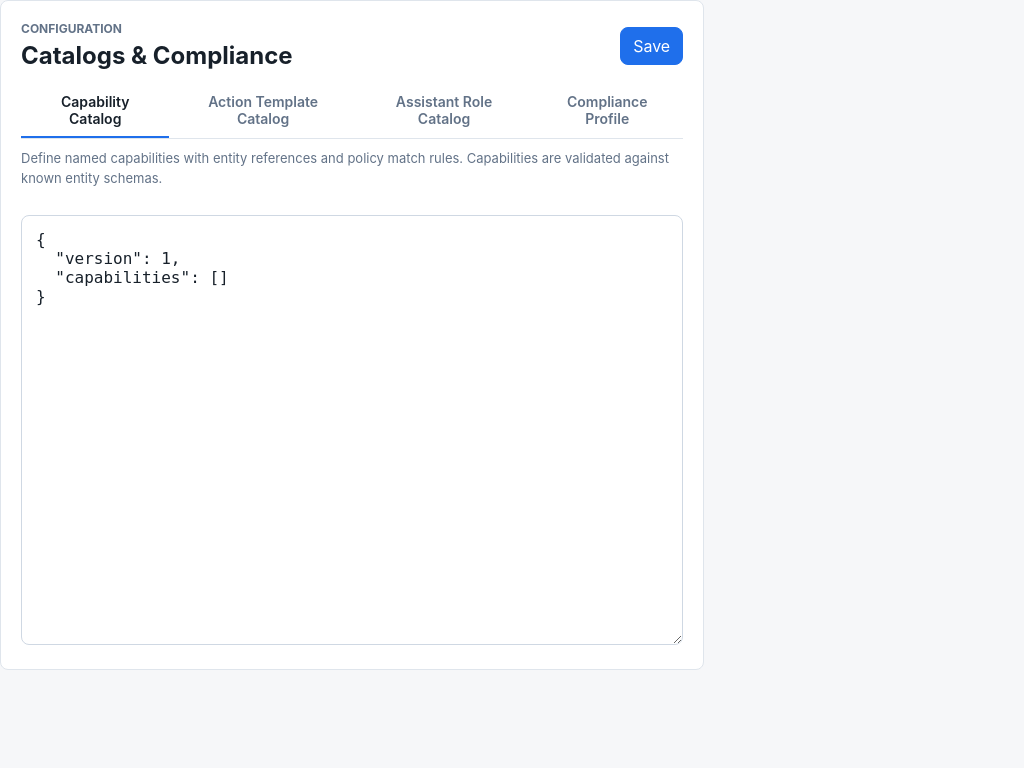
Scenario: CatalogsWorkspace › shows the empty assistant role catalog returned by the server
Expected: the text box named "Capability Catalog JSON" is shown, [21,215,683,645]
Click the button "Assistant Role Catalog" at (444, 111), box [357,84,531,138]
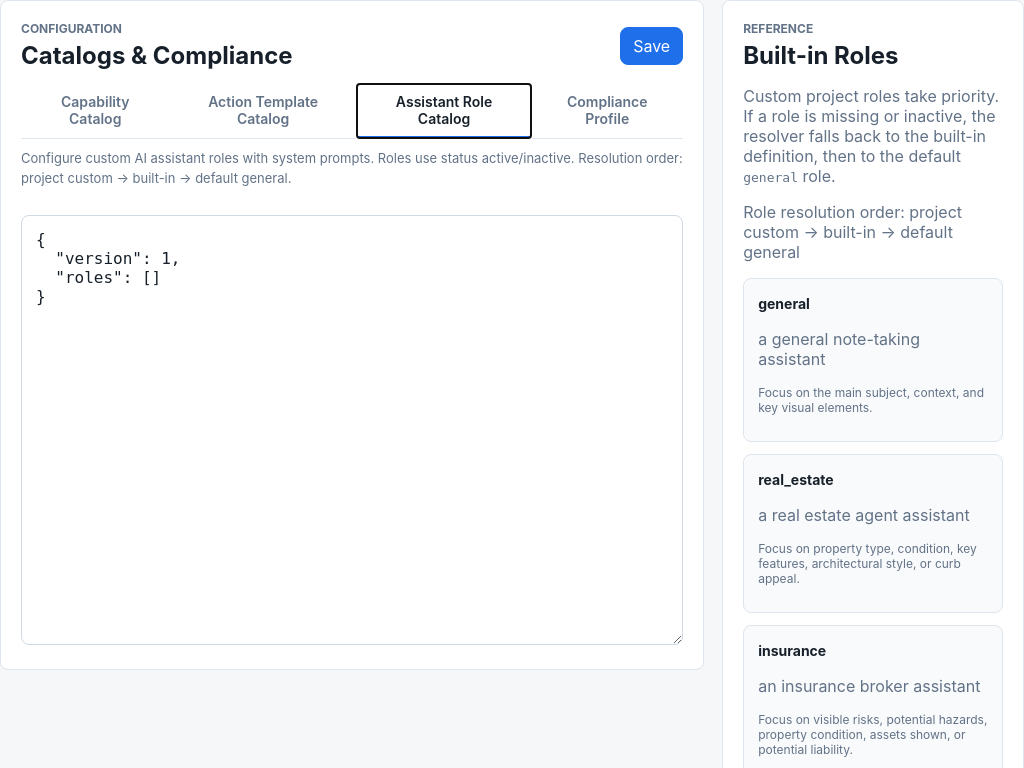
Now the text box named "Assistant Role Catalog JSON" is shown, box [21,215,683,645]
